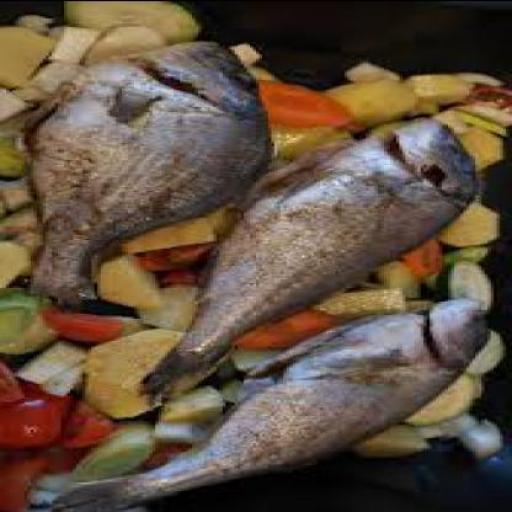biodegradable: (161, 61, 511, 458), (3, 3, 220, 510), (138, 111, 484, 401), (37, 299, 487, 510), (21, 36, 274, 300)
